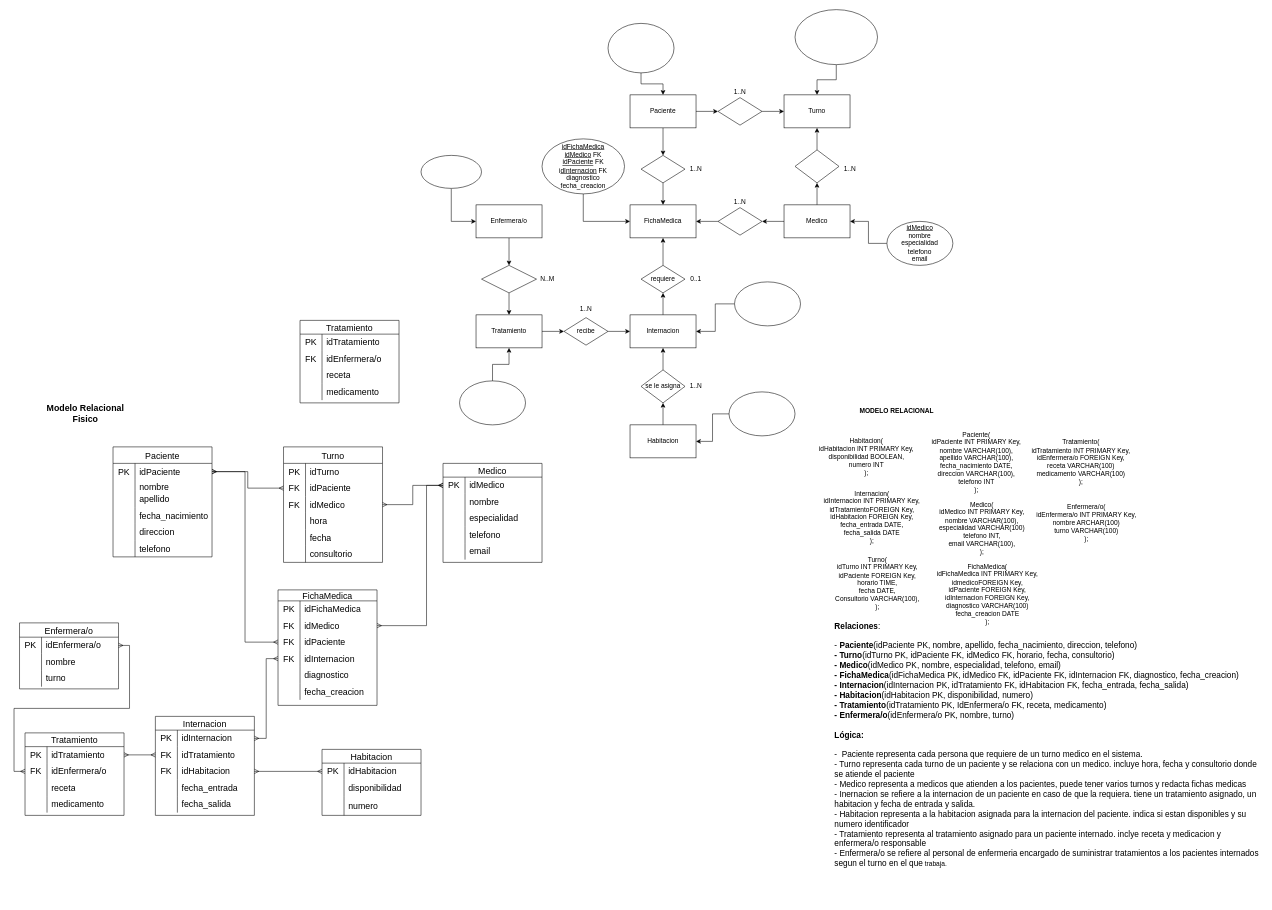
Some shapes in this 1272 by 910 pixel diagram are drawn without their labels. The box of each missing label's shape, as (x1, y1, x2, y2) in pixels:
agenda: (717, 97, 762, 125)
atiende: (794, 149, 839, 183)
gestiona: (481, 265, 537, 293)
idEnfermera/o nombre turno: (420, 155, 482, 188)
idHabitacion disponibilidad numero: (728, 391, 795, 436)
idInternacion idTratamiento FK idHabitacion FK fecha_entrada fecha_salida: (734, 281, 801, 326)
idPaciente nombre apellido fecha_nacimiento direccion telefono: (607, 23, 674, 73)
idTratamiento idEnfermera/o FK receta medicamento: (459, 380, 526, 425)
idTurno i dPaciente FK idMedico FK horario fecha consultorio: (794, 9, 878, 65)
Redacta: (717, 207, 762, 235)
tiene: (640, 155, 685, 183)
